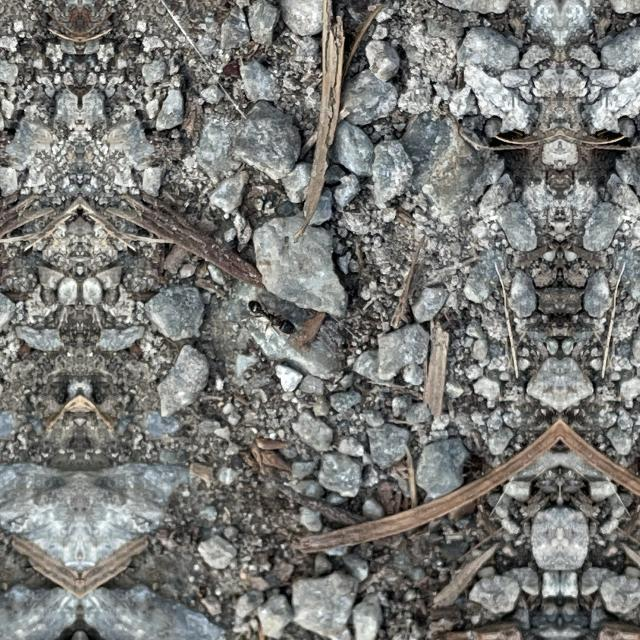Tetramorium: (240, 300, 298, 346)
